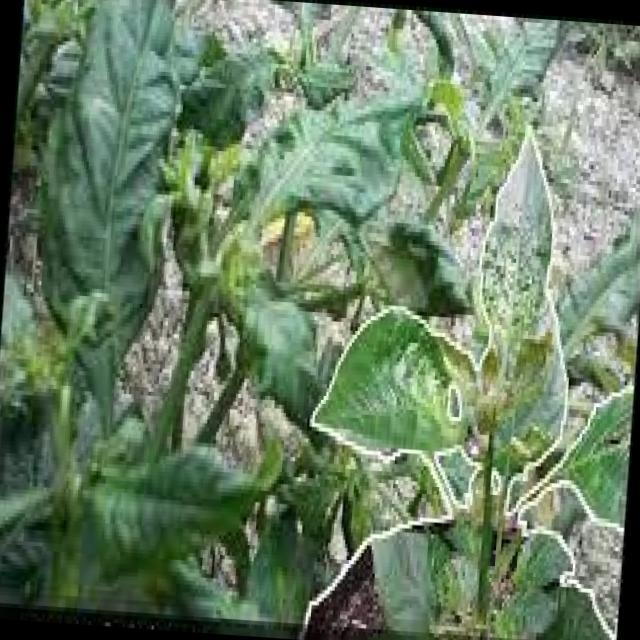Chilli_Leaf_Curl: (0, 0, 640, 640), (294, 107, 640, 640), (19, 0, 190, 431), (76, 418, 284, 594), (305, 296, 483, 462), (248, 78, 416, 239)
